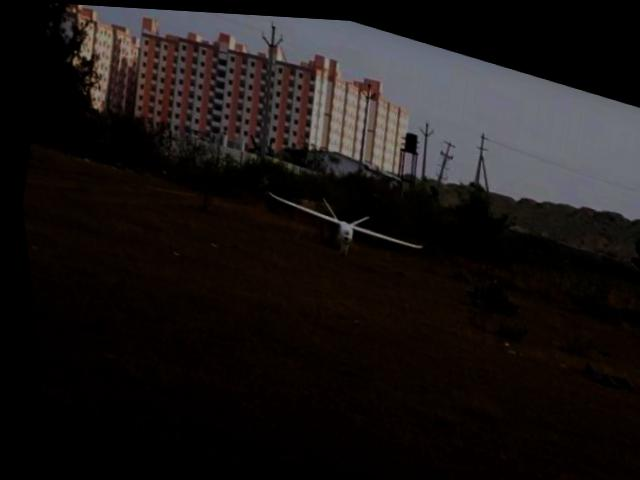iha: (248, 168, 431, 271)
